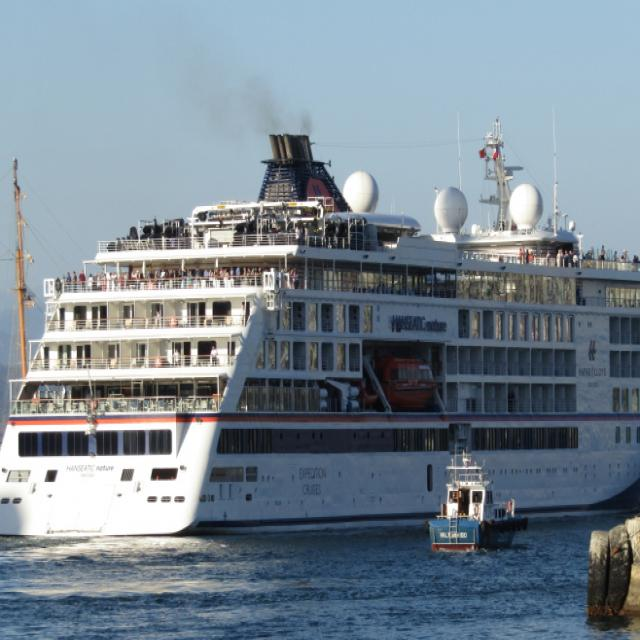cruises: (1, 124, 640, 537)
